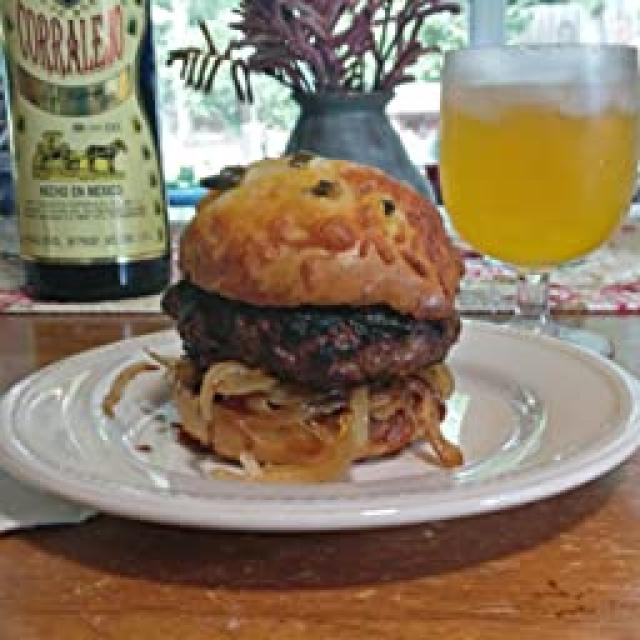burger: (160, 152, 462, 485)
